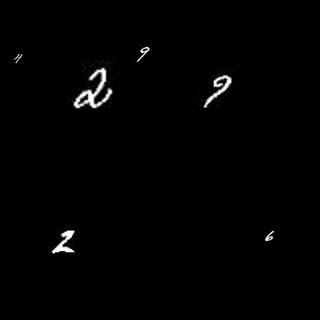four: (12, 50, 23, 66)
nine: (198, 73, 233, 110), (135, 45, 153, 65)
six: (263, 228, 278, 240)
two: (67, 69, 113, 111), (53, 229, 81, 255)
